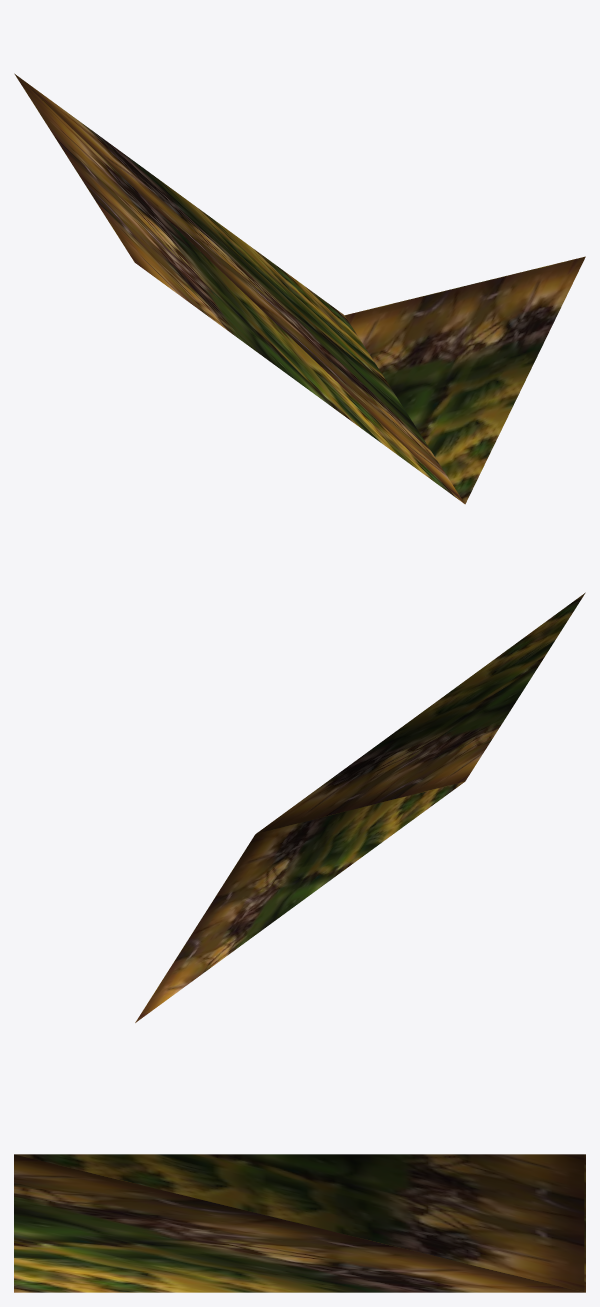
3 renders of one model, top to bottom at view 1: azimuth 30°, elevation 25°; view 2: azimuth 150°, elevation 25°; view 3: azimuth 270°, elevation 25°, orthographic. The views are drawn at different scales.
Visible parts, largest first — view 1: model_Object39; view 2: model_Object39; view 3: model_Object39.
Boxes of the visible parts, <box> form: model_Object39: <box>14,73,585,504</box>; model_Object39: <box>135,592,585,1022</box>; model_Object39: <box>14,1154,585,1292</box>.
Bounding box in the file's own units: 0.976 × 0.8452 × 2.32.
Materials: 1 (1 with a texture image).
